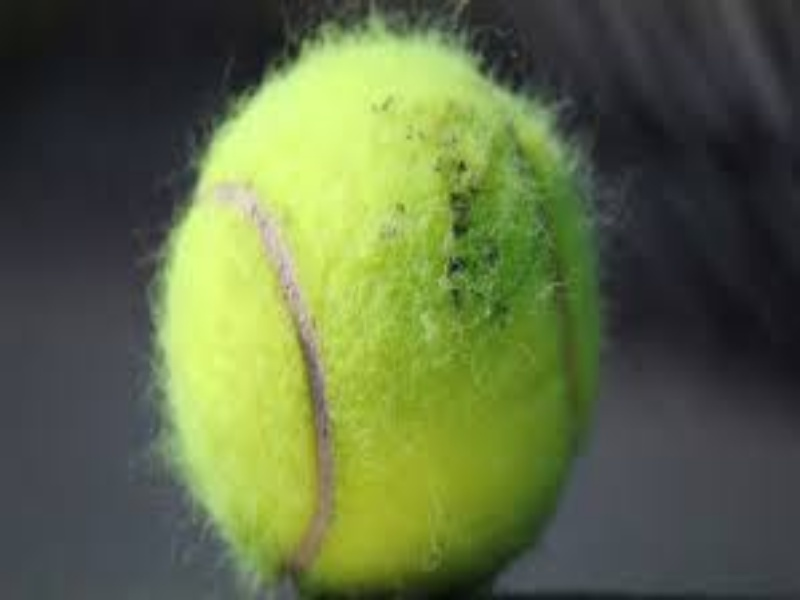tennis ball: (134, 19, 603, 586)
